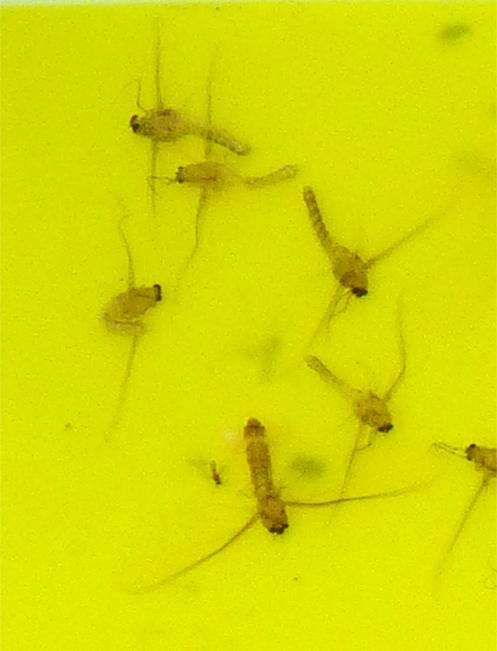Ephemeroptera: (218, 415, 314, 551), (299, 186, 385, 308), (305, 345, 397, 444), (117, 100, 259, 161), (167, 148, 300, 196), (100, 274, 165, 345)
